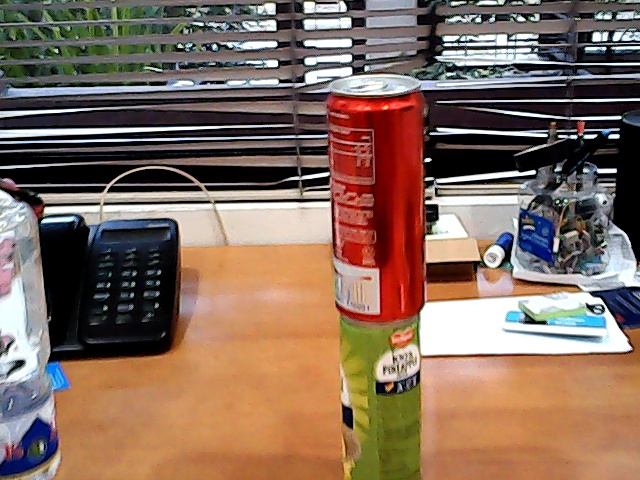Cola: (314, 71, 432, 317)
Pine Juice: (329, 316, 440, 480)
